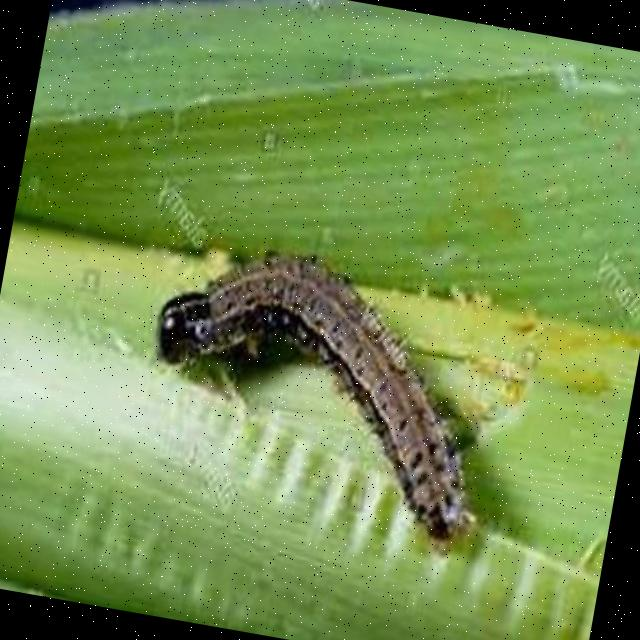worm: (128, 227, 519, 551)
